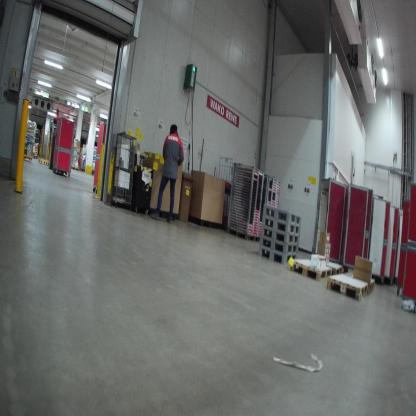pallet: (287, 251, 333, 282), (326, 271, 370, 299), (258, 241, 300, 268), (262, 202, 300, 230), (262, 222, 299, 250), (258, 234, 301, 255), (340, 272, 375, 295), (260, 217, 301, 236), (319, 256, 346, 278)
